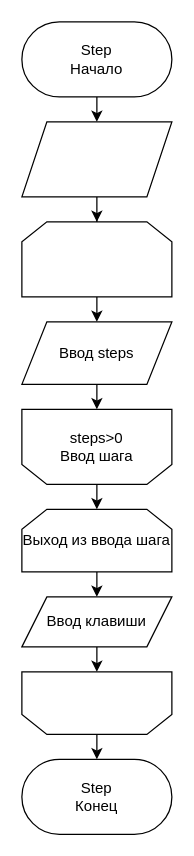
This 194x856 diagram has some shape labels left out. Here are the shapes that lost their labels. From the top down, the centre of each, then its label:
At [96,159]: "Очистить экран".
At [96,259]: "Ввод шага".
At [96,702]: "Нажат Enter Выход из ввода шага".
